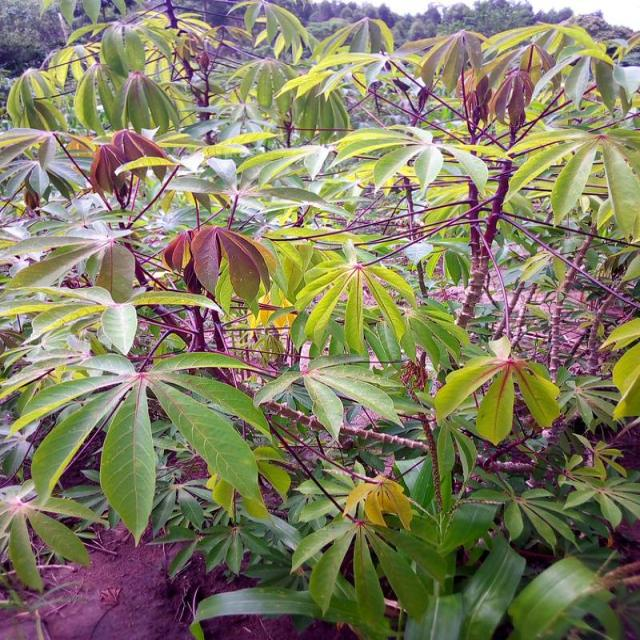cassava leaf: (1, 2, 638, 636), (433, 334, 560, 445), (98, 378, 156, 547)
